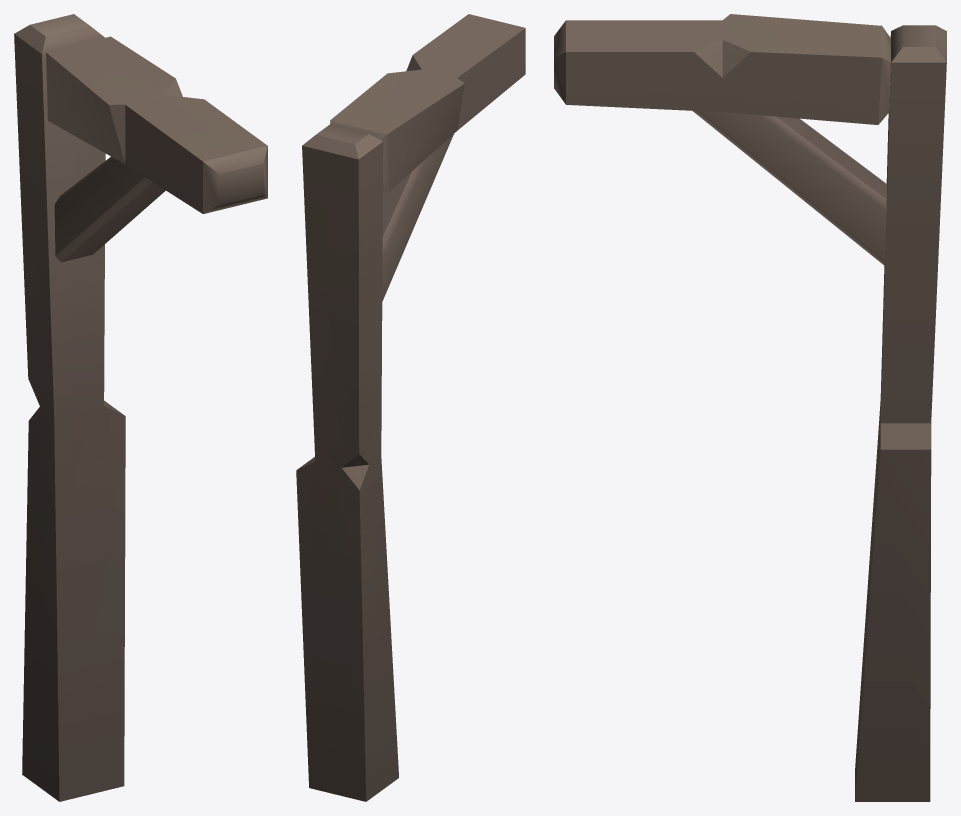
File: kaykit-halloween-bits-post.glb
3 renders of one model, left to right at view 1: azimuth 30°, elevation 25°; view 2: azimuth 150°, elevation 25°; view 3: azimuth 270°, elevation 25°, orthographic. The views are drawn at different scales.
Visible parts, largest first — view 1: post; view 2: post; view 3: post.
Boxes of the visible parts, x1,y1,x2,y2 form: post: (14,14,267,801); post: (296,14,525,801); post: (554,14,946,801).
Size of the model in its own units: 0.4238 by 3.3 by 1.57.
Materials: 1 (1 with a texture image).
